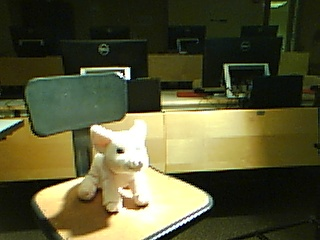piggy: (76, 117, 152, 214)
